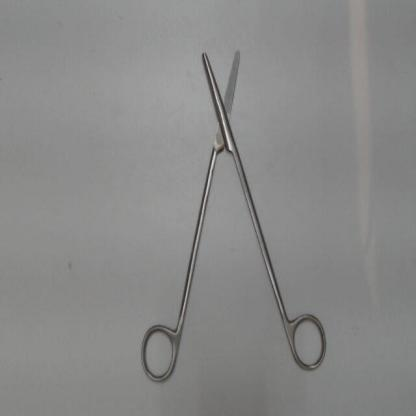9 Metzenbaum Scissors: (135, 45, 332, 390)
